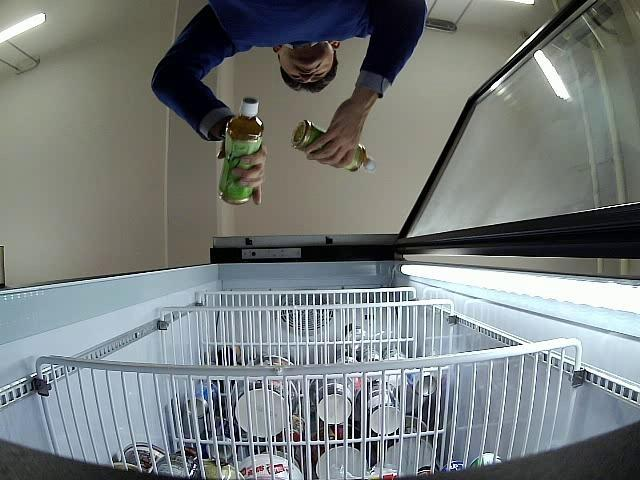19_17cha: (292, 116, 377, 174), (220, 94, 262, 206)
